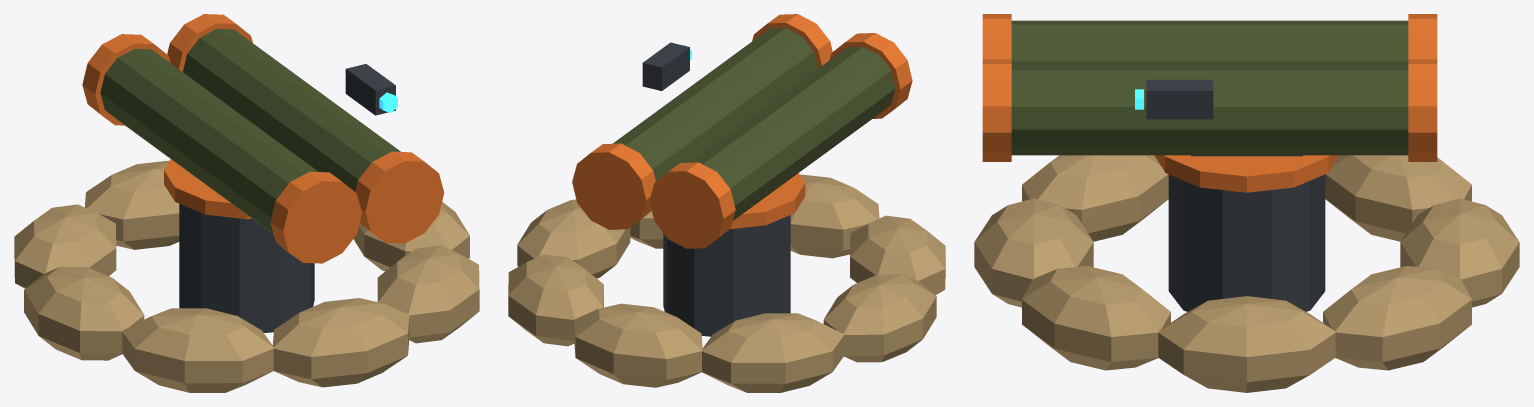
File: rocket_launcher.glb
3 renders of one model, left to right at view 1: azimuth 30°, elevation 25°; view 2: azimuth 150°, elevation 25°; view 3: azimuth 270°, elevation 25°, orthographic. The views are drawn at different scales.
Visible parts, largest first — view 1: Base, Gun; view 2: Base, Gun; view 3: Base, Gun.
Boxes of the visible parts, x1,y1,x2,y2 form: Base: (14, 159, 479, 392); Gun: (82, 14, 444, 263); Base: (508, 173, 945, 392); Gun: (572, 14, 912, 248); Base: (974, 155, 1519, 392); Gun: (982, 14, 1437, 161).
Size of the model in its own units: 2.43 by 1.29 by 2.43.
